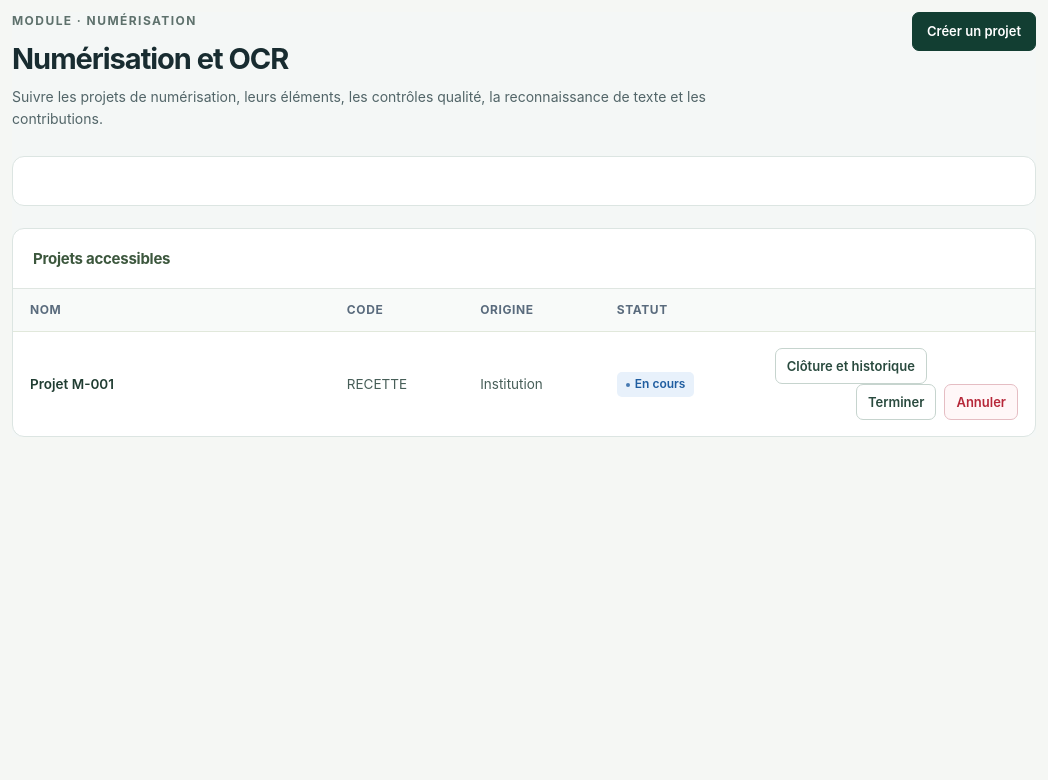
Test case: allows the institutional manager to work on the selected project but not change its ownership
Step 1. Click the button "Projet M-001" → (125, 384), box [30,374,220,395]
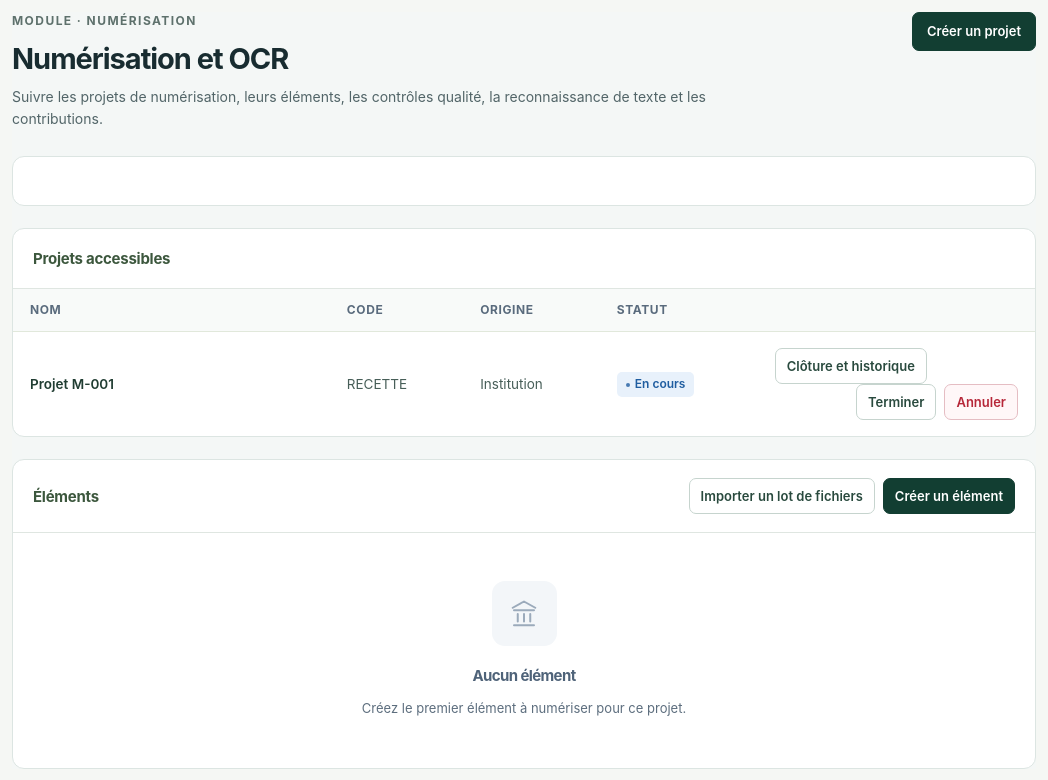
expect the button "Terminer" is shown: met, box [856,384,936,420]
expect the button "Créer un élément" is shown: met, box [883,478,1015,514]
